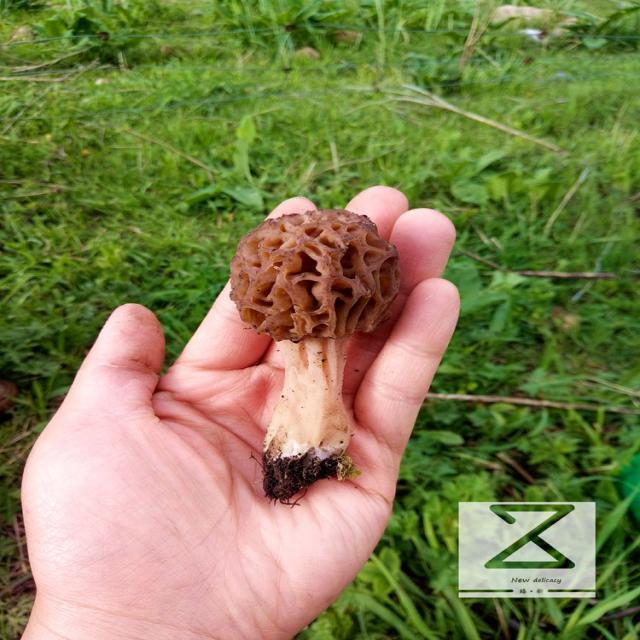Morchella esculenta: (228, 210, 402, 498)
